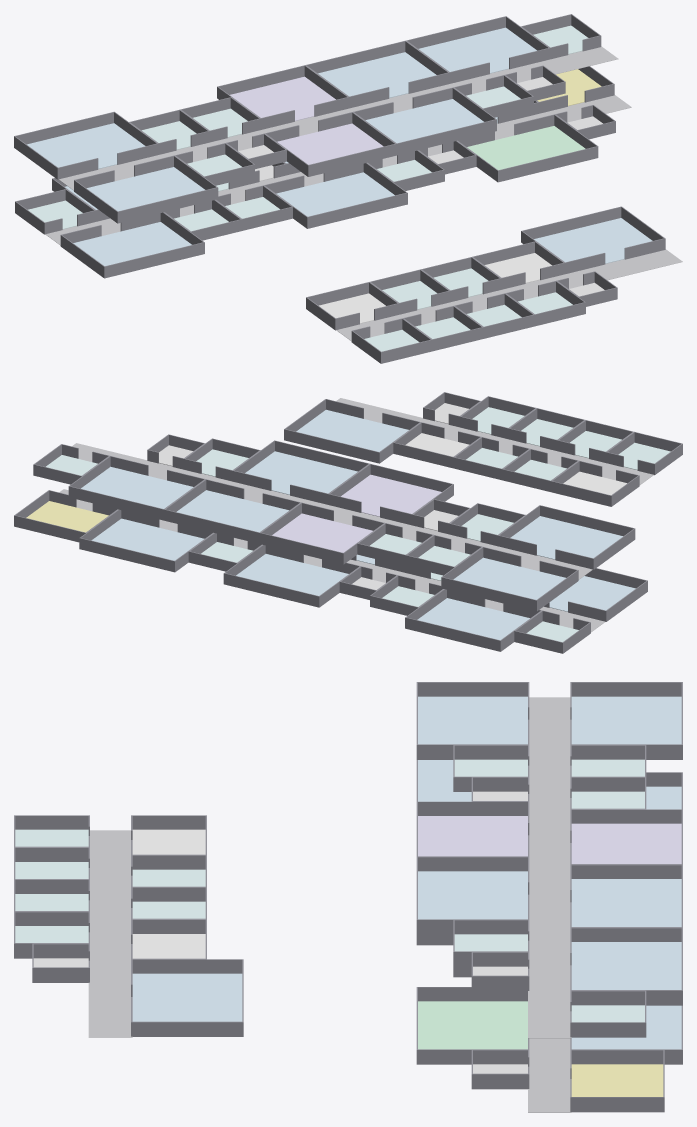
The model's file is hospital.glb.
3 views of the same model, one above another, from view 1: azimuth 30°, elevation 25°; view 2: azimuth 150°, elevation 25°; view 3: azimuth 270°, elevation 25° (orthographic). The views are drawn at different scales.
Visible parts, largest first — view 1: corridor_MAIN_L1, corridor_OPD_L0, walls_0299999110023, walls_0299999110016, corridor_MAIN_L0, walls_0299999100024, room_0299999110016, room_0299999110092, room_0299999200090, room_0299999110115, walls_0299999100147, walls_0299999200090 (+54 smaller); view 2: corridor_MAIN_L1, walls_0299999110016, walls_0299999110023, room_0299999110023, room_0299999110108, walls_0299999200090, walls_0299999100093, room_0299999100130, room_0299999110092, room_0299999100093, room_0299999110115, room_0299999200090 (+56 smaller); view 3: corridor_MAIN_L1, corridor_OPD_L0, room_0299999110016, room_0299999200090, room_0299999100147, room_0299999110023, room_0299999110108, room_0299999110092, room_0299999110115, room_0299999110078, room_0299999110085, walls_0299999200090 (+44 smaller).
Part boxes in pixels (<box>): corridor_MAIN_L1: <box>59,46,618,190</box>; corridor_OPD_L0: <box>336,249,682,341</box>; walls_0299999110023: <box>74,155,218,223</box>; walls_0299999110016: <box>14,111,158,179</box>; corridor_MAIN_L0: <box>45,95,631,245</box>; walls_0299999100024: <box>60,212,204,278</box>; room_0299999110016: <box>27,123,145,168</box>; room_0299999110092: <box>318,52,436,97</box>; room_0299999200090: <box>534,218,652,263</box>; room_0299999110115: <box>419,27,536,73</box>; walls_0299999100147: <box>457,114,598,182</box>; walls_0299999200090: <box>521,206,665,274</box>; corridor_MAIN_L1: <box>72,443,592,579</box>; walls_0299999110016: <box>441,547,578,611</box>; walls_0299999110023: <box>498,505,635,569</box>; room_0299999110023: <box>510,516,622,559</box>; room_0299999110108: <box>245,451,357,494</box>; walls_0299999200090: <box>284,399,420,463</box>; walls_0299999100093: <box>223,545,360,607</box>; room_0299999100130: <box>91,518,204,560</box>; room_0299999110092: <box>176,490,288,532</box>; room_0299999100093: <box>236,554,348,595</box>; room_0299999110115: <box>81,466,193,508</box>; room_0299999200090: <box>296,409,408,451</box>; corridor_MAIN_L1: <box>528,697,571,1038</box>; corridor_OPD_L0: <box>88,830,132,1037</box>; room_0299999110016: <box>571,696,681,744</box>; room_0299999200090: <box>132,973,242,1021</box>; room_0299999100147: <box>418,1001,527,1049</box>; room_0299999110023: <box>418,696,527,744</box>; room_0299999110108: <box>418,871,527,919</box>; room_0299999110092: <box>571,879,681,926</box>; room_0299999110115: <box>571,942,681,989</box>; room_0299999110078: <box>571,823,681,863</box>; room_0299999110085: <box>418,816,527,856</box>; walls_0299999200090: <box>131,959,243,1036</box>.
Bounding box in the file's own units: 46.28 × 4.9 × 36.55.
